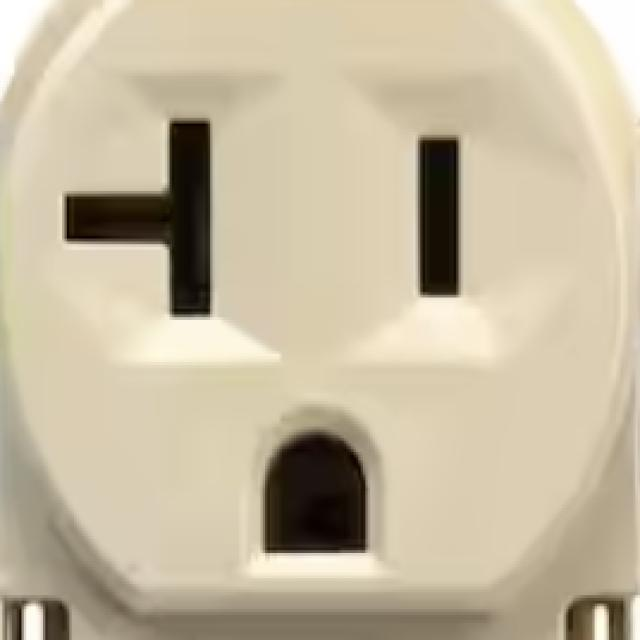type_b_tc: (4, 6, 640, 640)
